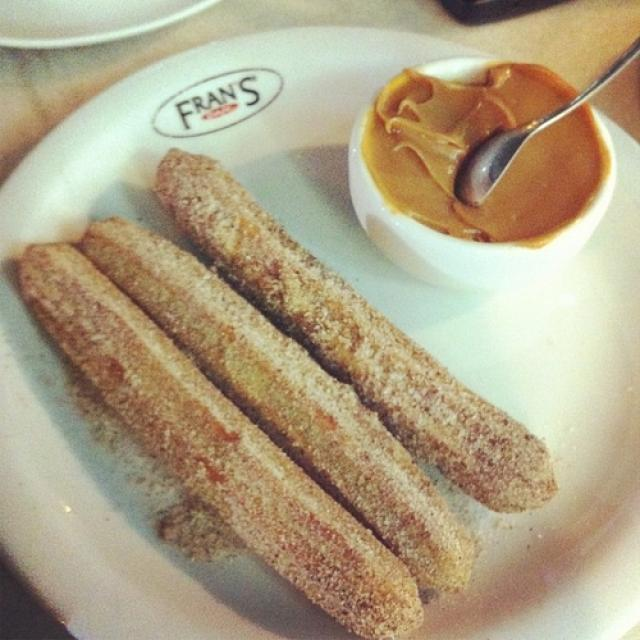炸货点心: (15, 74, 585, 634)
